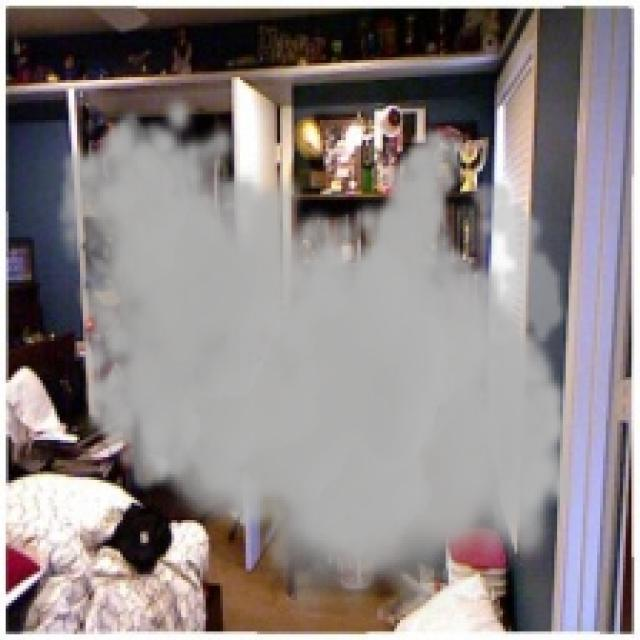Smoke: (54, 91, 583, 632)
